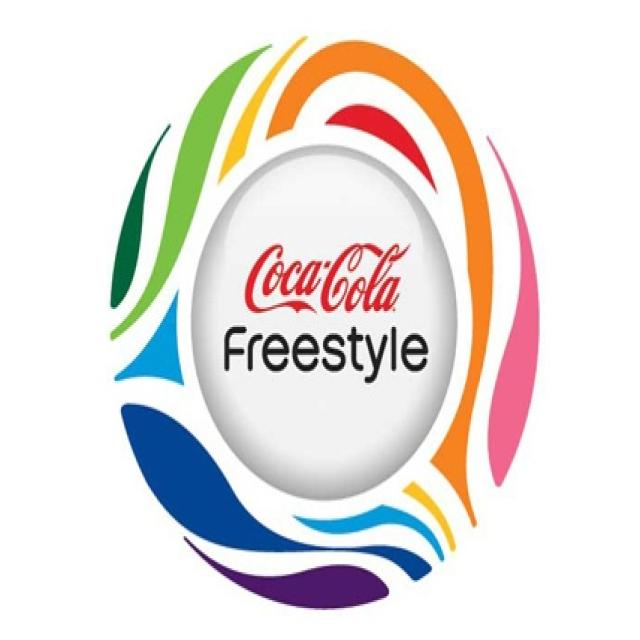cocacola: (233, 230, 432, 326)
